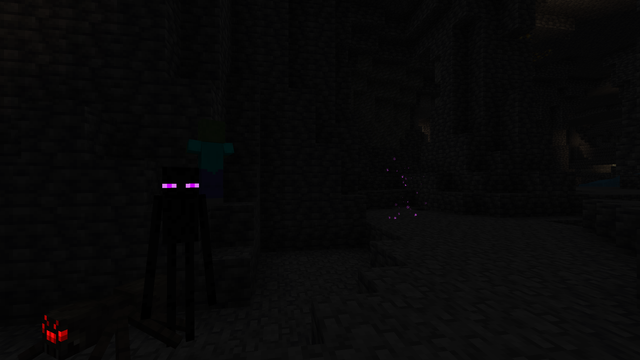araignees: (12, 274, 149, 359)
endermens: (151, 161, 204, 354)
zombies: (193, 120, 225, 206)
